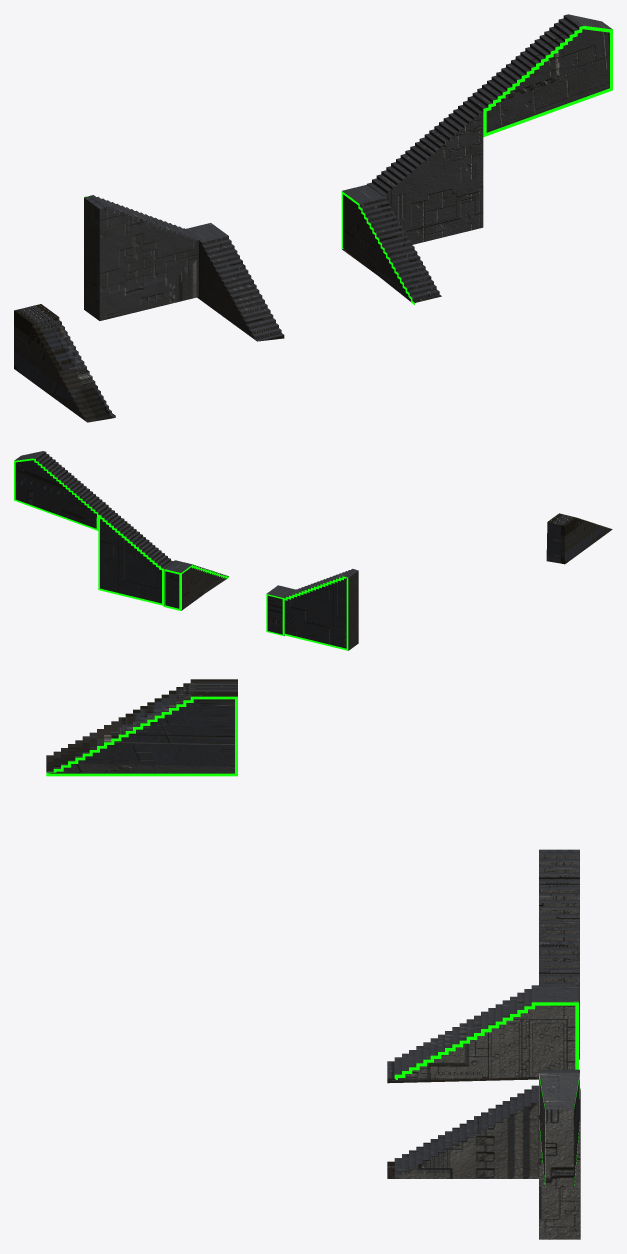
The model's file is Stairs.glb.
The picture shows the model from 3 angles, top to bottom: view 1: azimuth 30°, elevation 25°; view 2: azimuth 150°, elevation 25°; view 3: azimuth 270°, elevation 25°; orthographic projection. The views are drawn at different scales.
Visible parts, largest first — view 1: Stairs; view 2: Stairs; view 3: Stairs.
Boxes of the visible parts, left/top/right/bottom form: Stairs: left=14, top=14, right=612, bottom=422; Stairs: left=14, top=451, right=612, bottom=650; Stairs: left=46, top=679, right=580, bottom=1239.
Size of what is drawn, in the model's own units: 52.7 by 12.84 by 26.09.
Materials: 3 (2 with a texture image).
